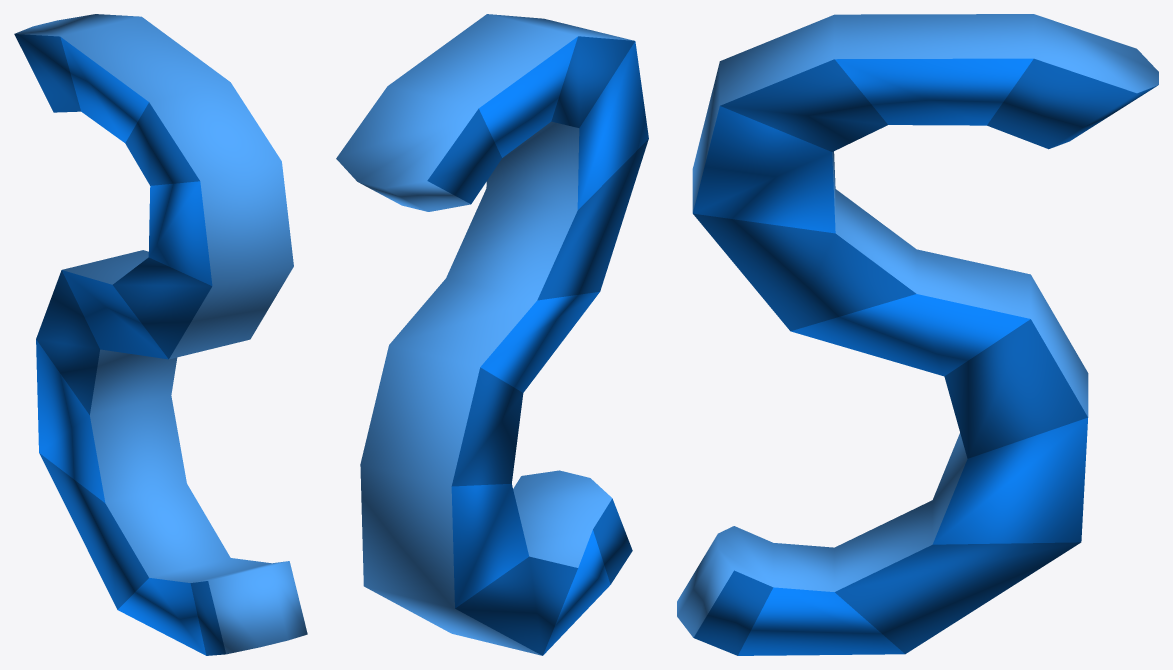
Rendered from Speed.fbx.
3 views of the same model, side by side, from view 1: azimuth 30°, elevation 25°; view 2: azimuth 150°, elevation 25°; view 3: azimuth 270°, elevation 25° (orthographic). The views are drawn at different scales.
Visible parts, largest first — view 1: Cube; view 2: Cube; view 3: Cube.
Boxes of the visible parts, x1,y1,x2,y2 form: Cube: [14, 14, 307, 655]; Cube: [336, 14, 648, 655]; Cube: [677, 14, 1158, 655].
Bounding box in the file's own units: 0.2459 × 1.31 × 0.9571.
